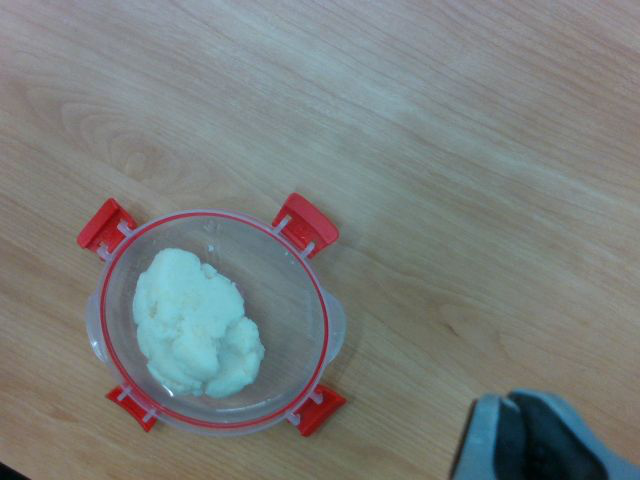mashed_potato: (133, 248, 262, 396)
